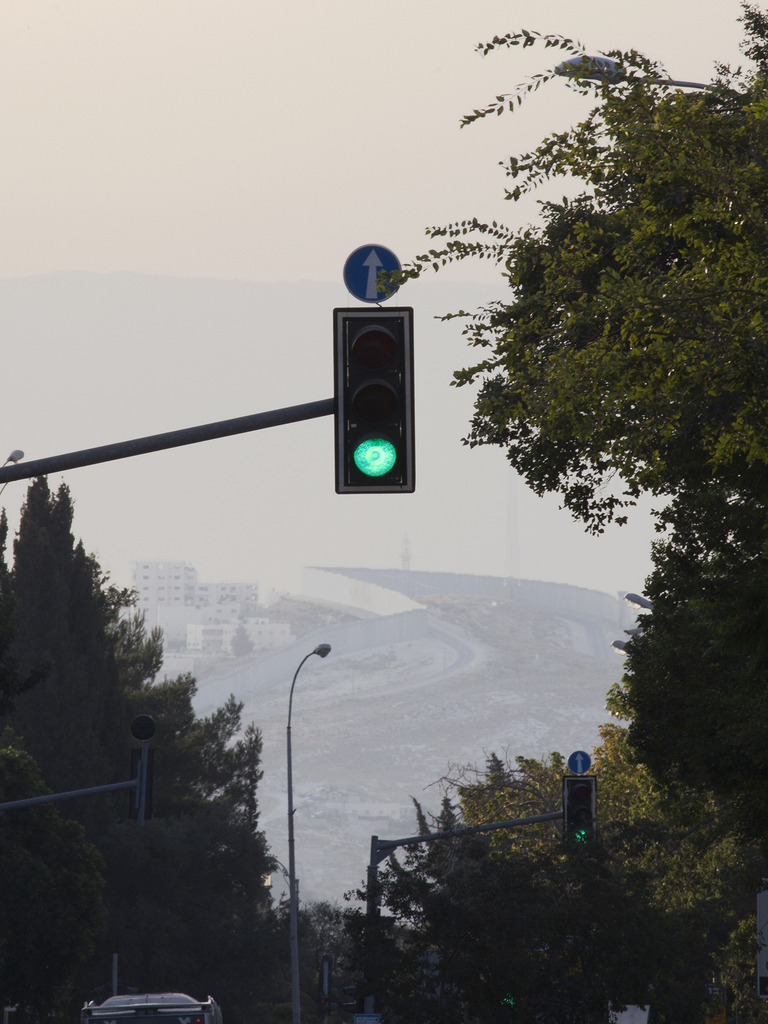green_light: (343, 313, 418, 487)
